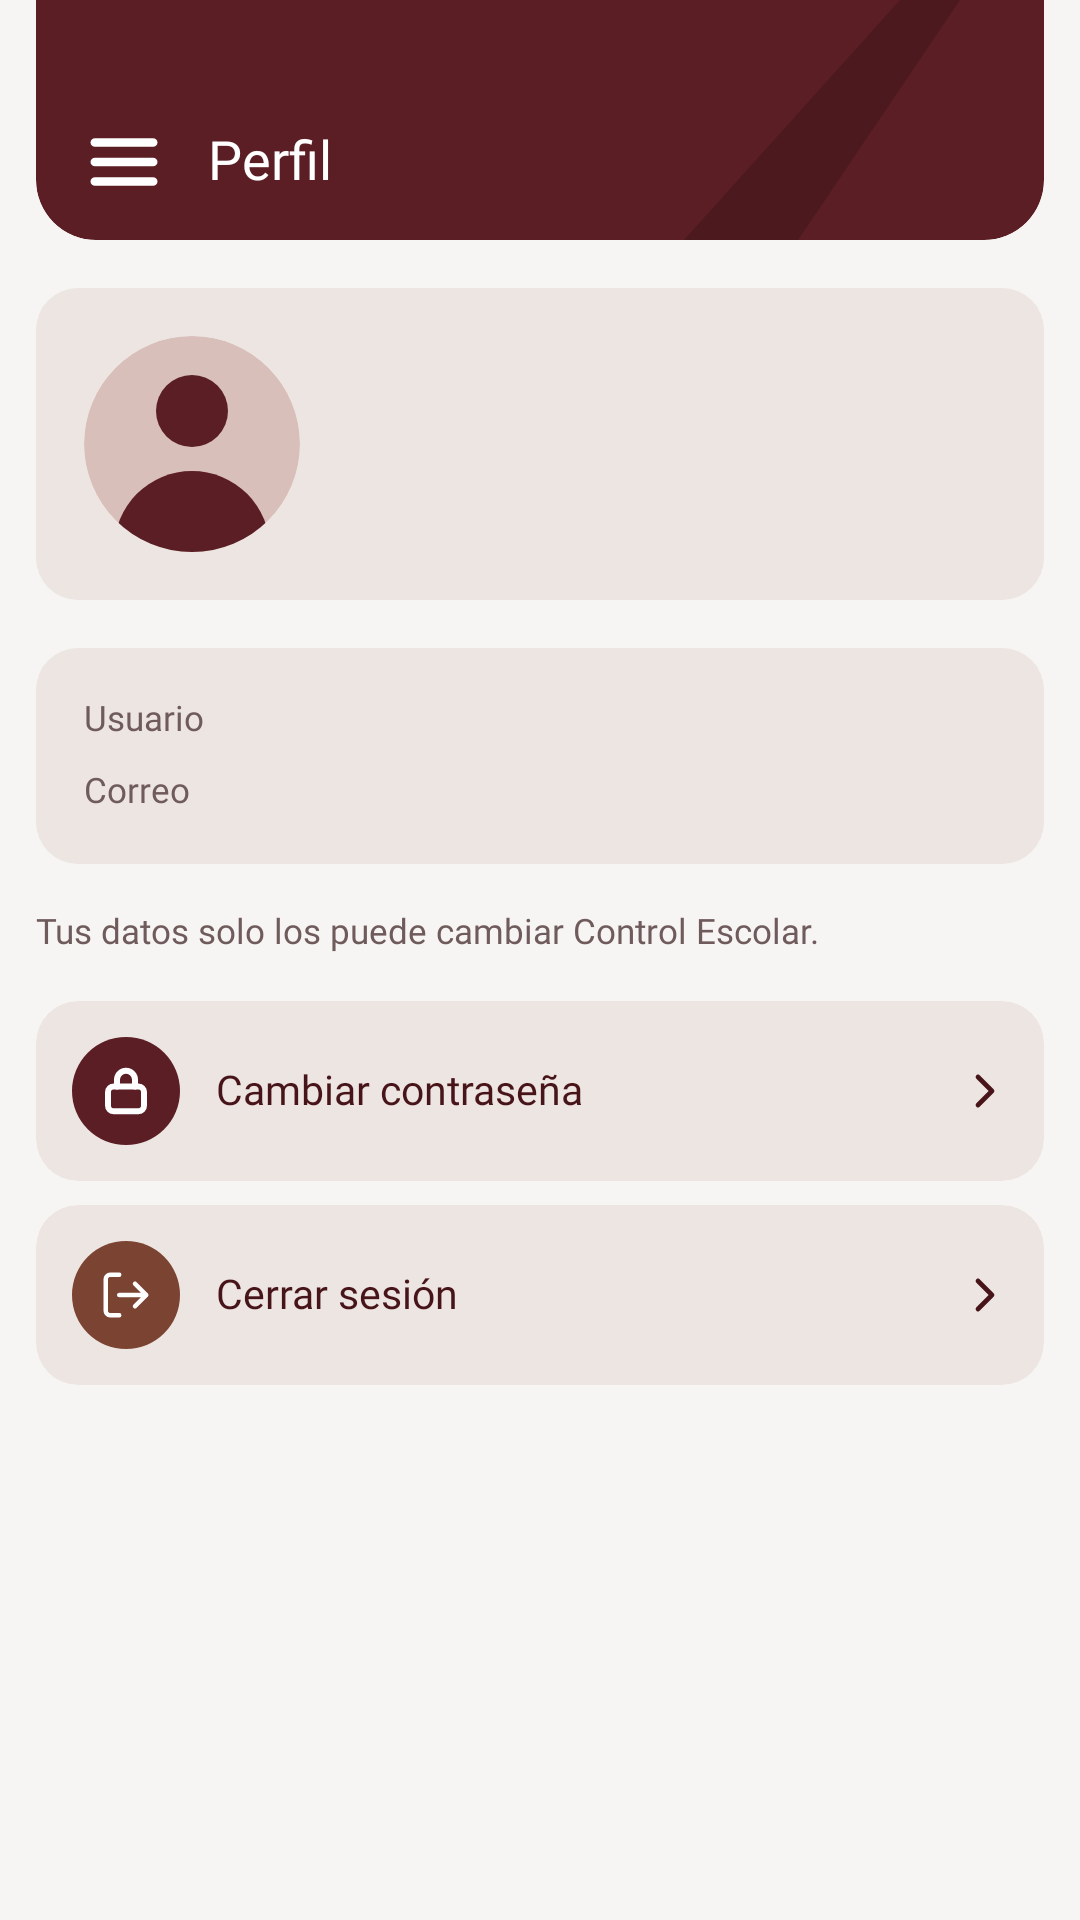

Screen size 1080 x 1920. Icon name, then its box in pixels as [x1,y1,x2,y2]:
lock: [105,1067,147,1115]
log out: [103,1272,149,1318]
